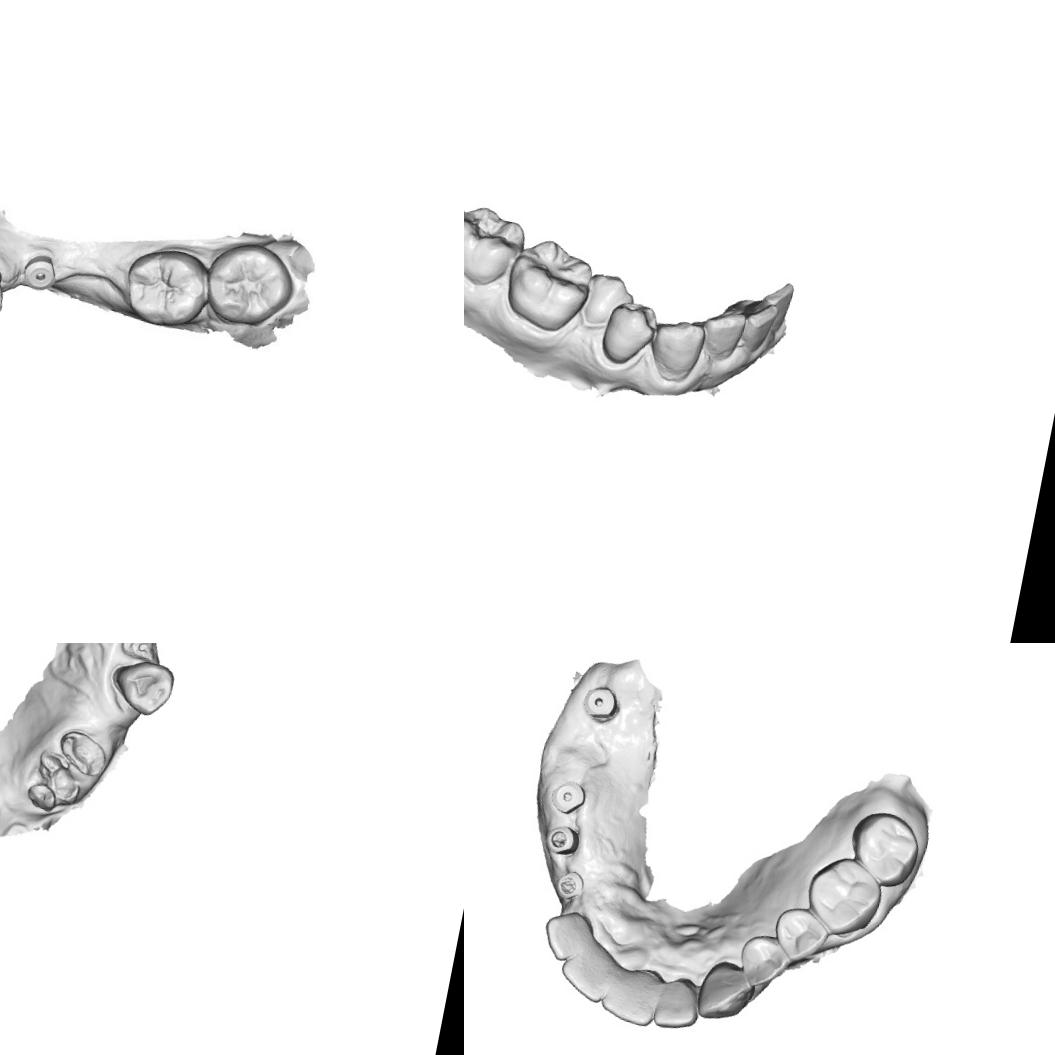canine: (643, 312, 706, 388), (106, 654, 178, 720), (694, 956, 759, 1026)
implant: (578, 680, 623, 726), (546, 776, 588, 818), (19, 252, 63, 290), (541, 821, 583, 859), (552, 867, 586, 902)
incisor: (597, 956, 662, 1030), (554, 936, 620, 1006), (537, 904, 597, 966), (650, 972, 705, 1034), (696, 306, 746, 367), (736, 299, 779, 358), (756, 276, 796, 334)
molar: (194, 234, 303, 336), (501, 233, 600, 340), (118, 241, 210, 332), (800, 850, 888, 942), (842, 806, 925, 892), (464, 199, 523, 290)
premolar: (597, 292, 660, 368), (768, 902, 833, 968), (576, 268, 642, 331), (734, 930, 796, 994)
